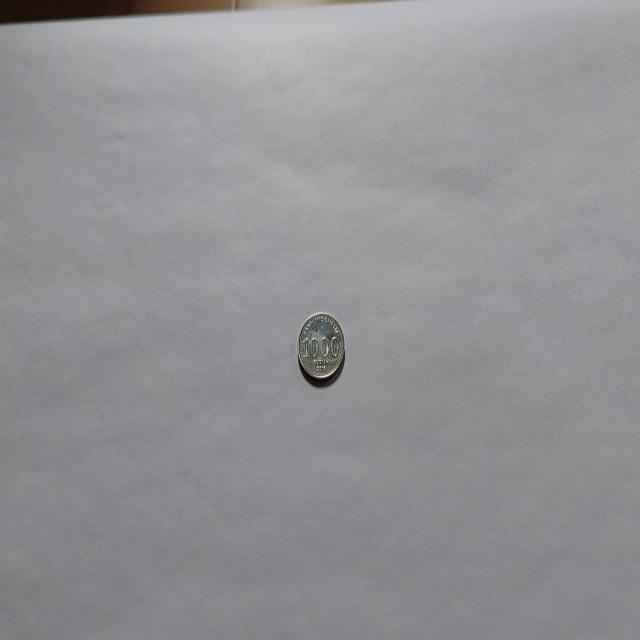seribu rupiah koin: (296, 310, 346, 383)
